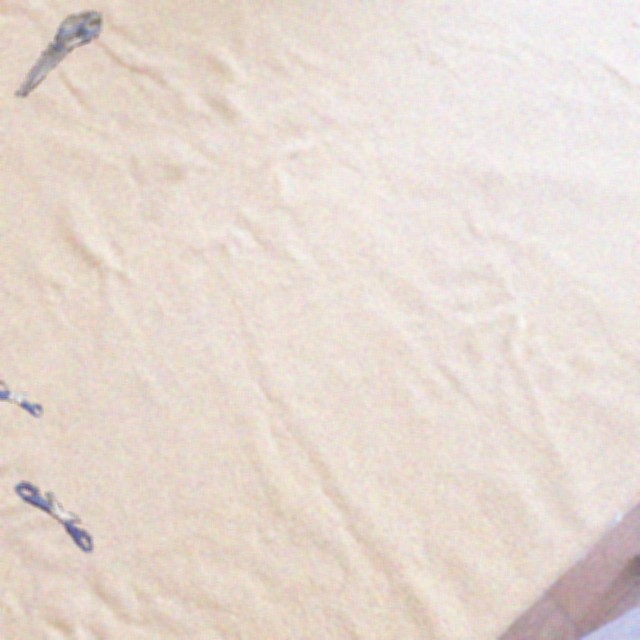scissors: (15, 10, 102, 97), (14, 481, 92, 552), (0, 380, 42, 417)
